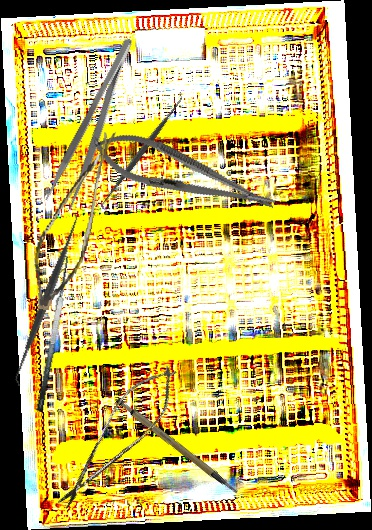Dressing Forceps: (42, 35, 151, 213)
Micro Scissor: (46, 354, 190, 521), (26, 120, 117, 317)
Needle Holder: (85, 120, 282, 229)
Scalpel Handle: (113, 383, 239, 512)
Spatula Surgical: (4, 211, 89, 388), (93, 90, 191, 212), (22, 249, 78, 413)
